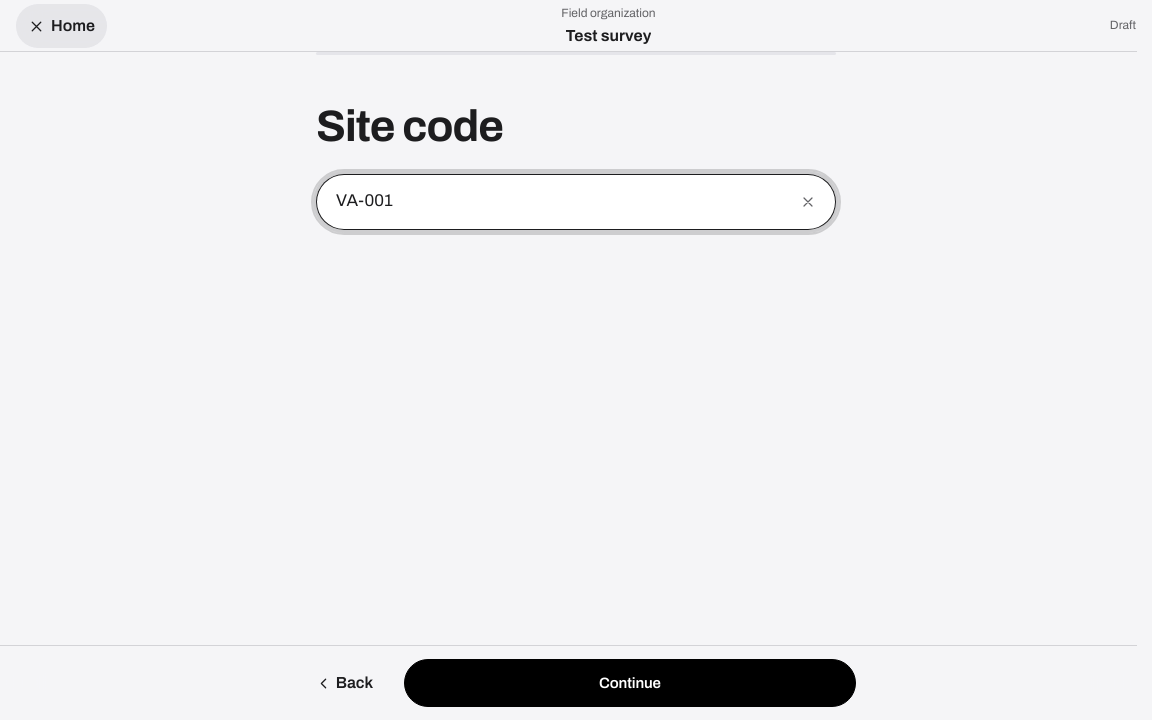
Test case: Collector guided flow (§10 client-side enforcement) › enforces number min/max with a specific message
This screenshot has width=1152, height=720.
Click the 4th button: coordinates (630, 683) [404, 659, 856, 707]
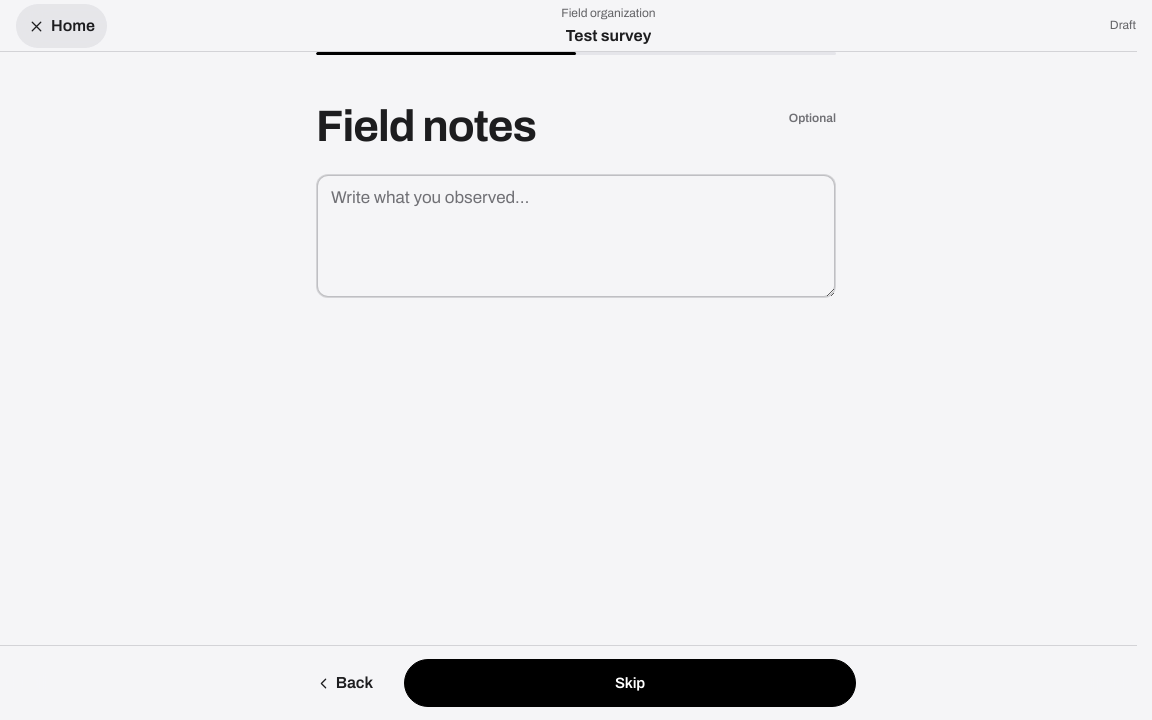
Check: the heading "Field notes" is shown, box [316, 102, 536, 150]
Click the 3rd button: coordinates (630, 683) [404, 659, 856, 707]
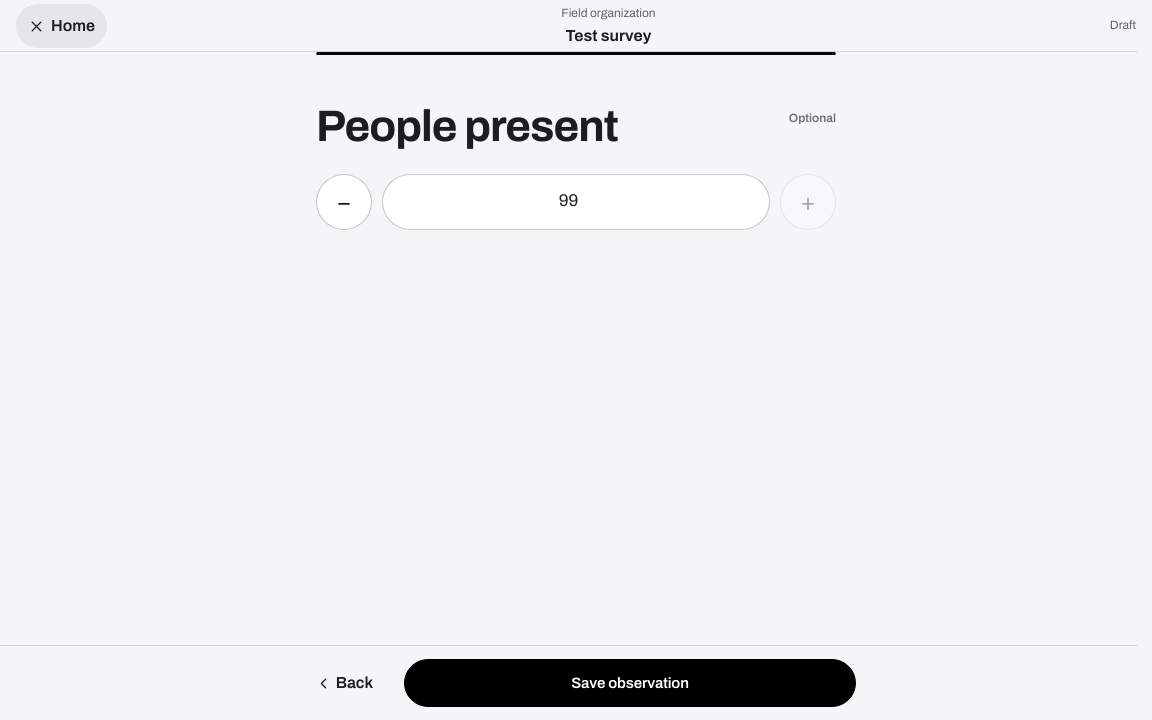
Check: the heading "People present" is shown, box [316, 102, 618, 150]
Click the 3rd button named "save observation": coordinates (630, 683) [404, 659, 856, 707]
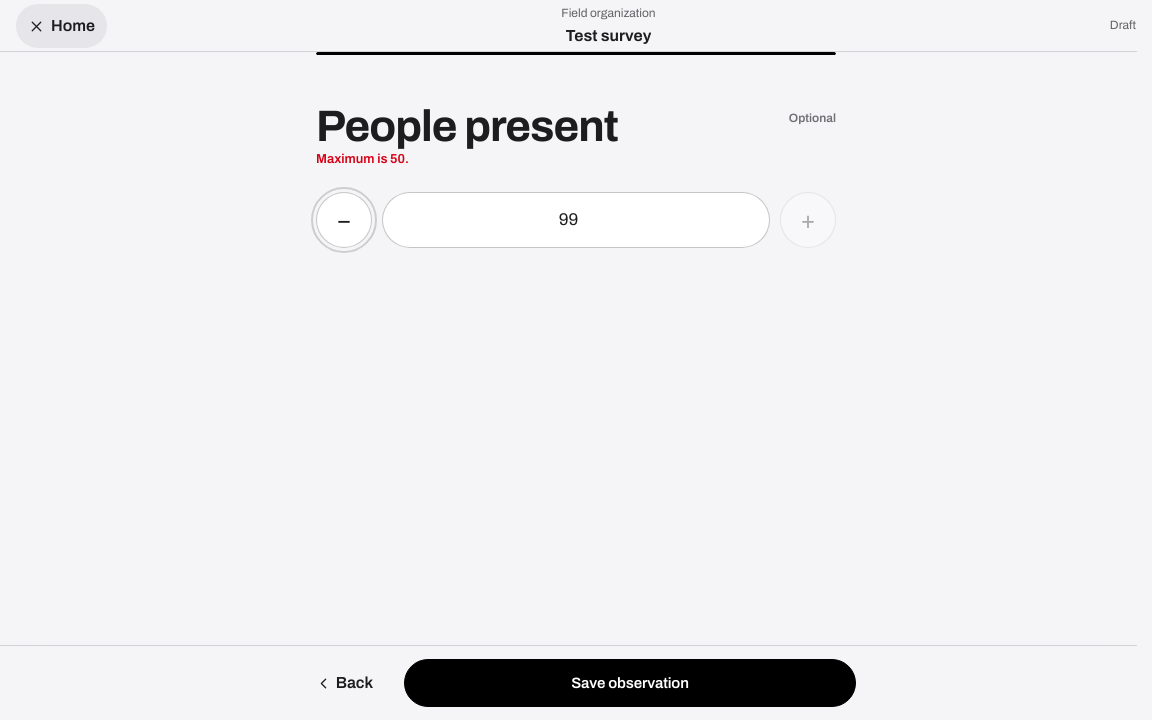
Check: the text "maximum is 50" is shown, box [316, 152, 409, 166]
